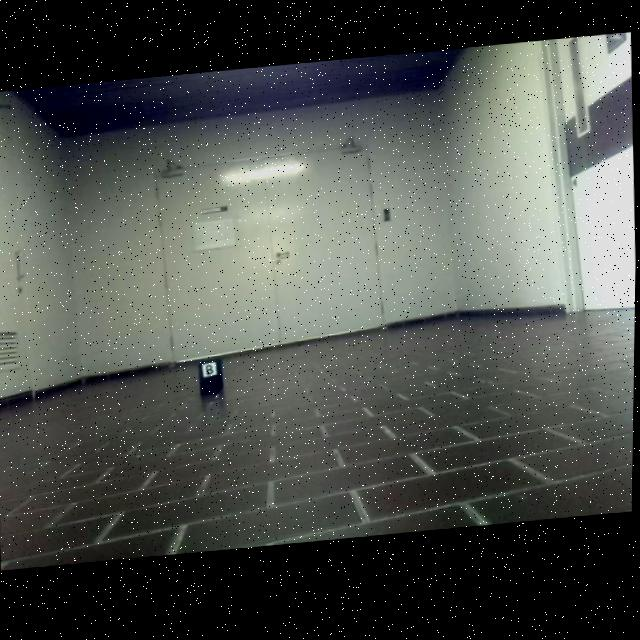B: (206, 365, 215, 378)
